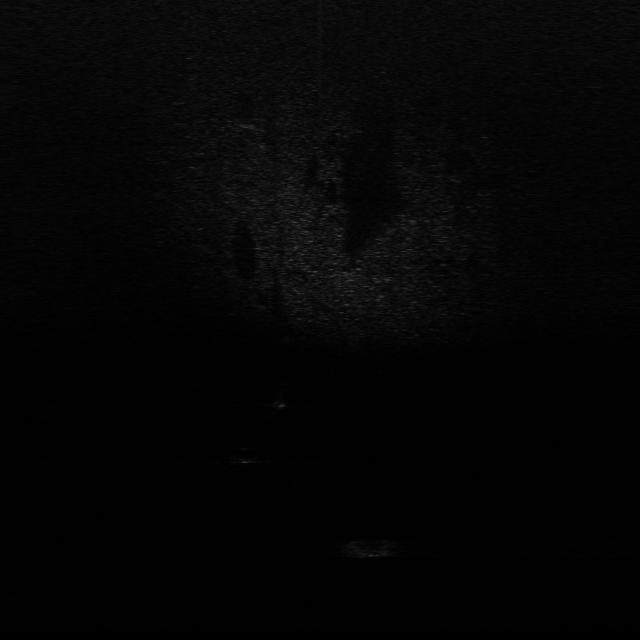ball: (233, 444, 259, 466)
circle cage: (343, 538, 407, 560)
human body: (267, 379, 291, 423)
